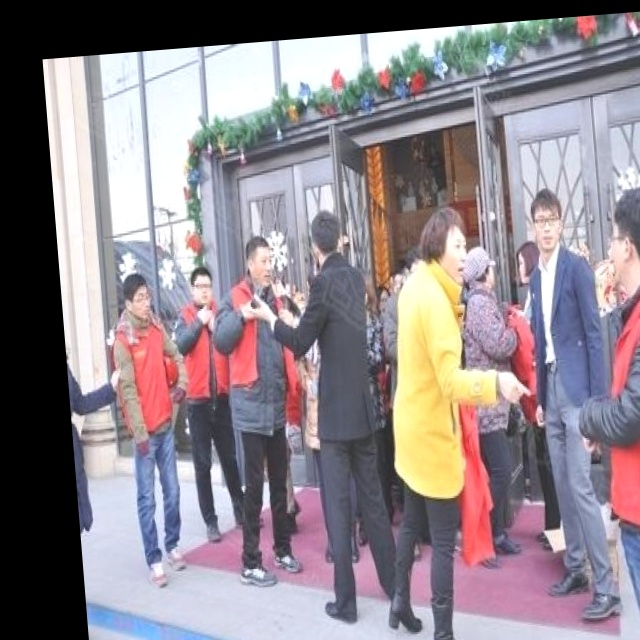Sin_Casco_Mascarrilla: (602, 188, 640, 294), (420, 206, 470, 279), (530, 189, 565, 251)
Sin_Chaleco: (519, 256, 600, 412)
